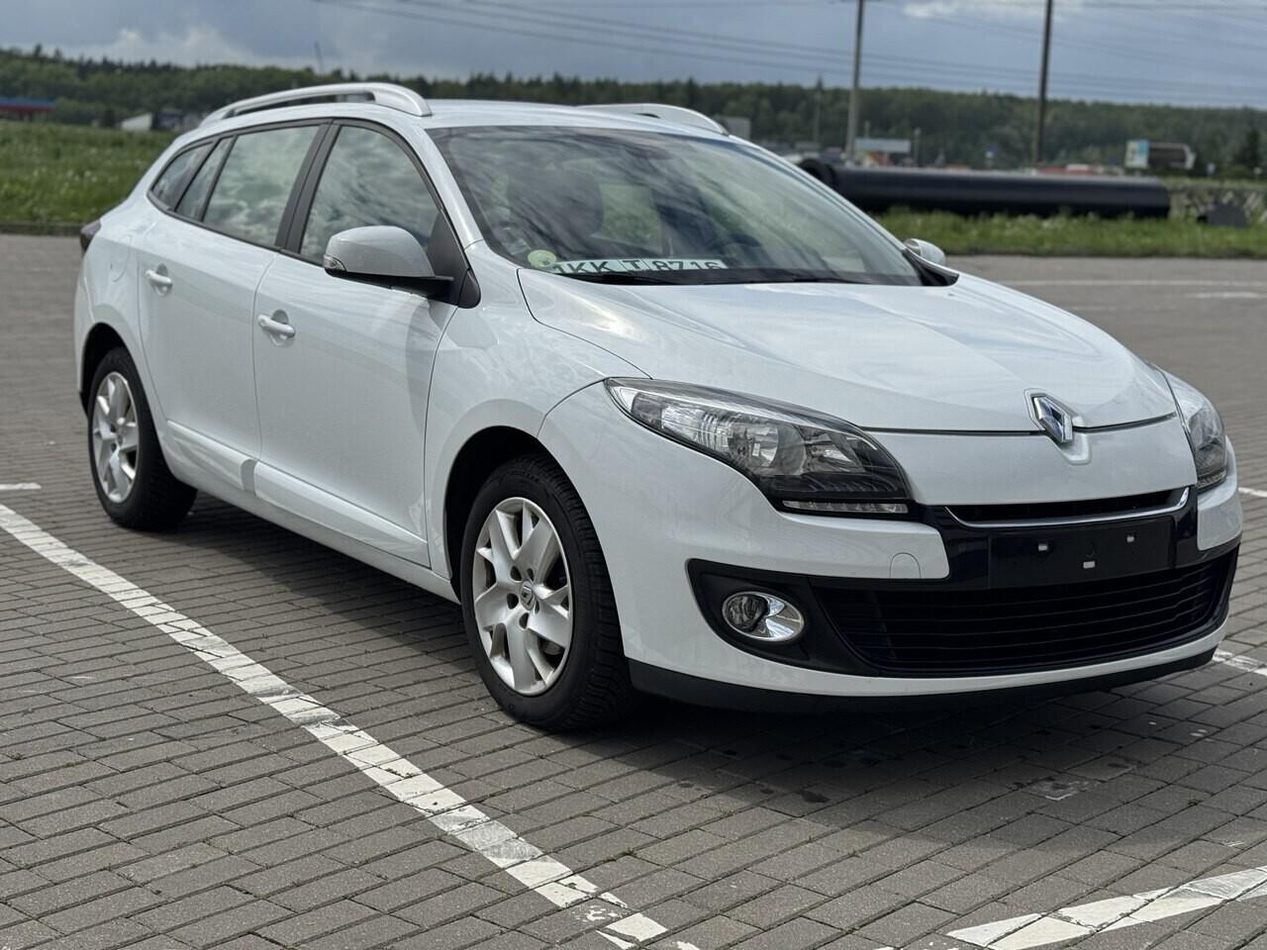Megane_2012-2014: (71, 84, 1253, 751)
